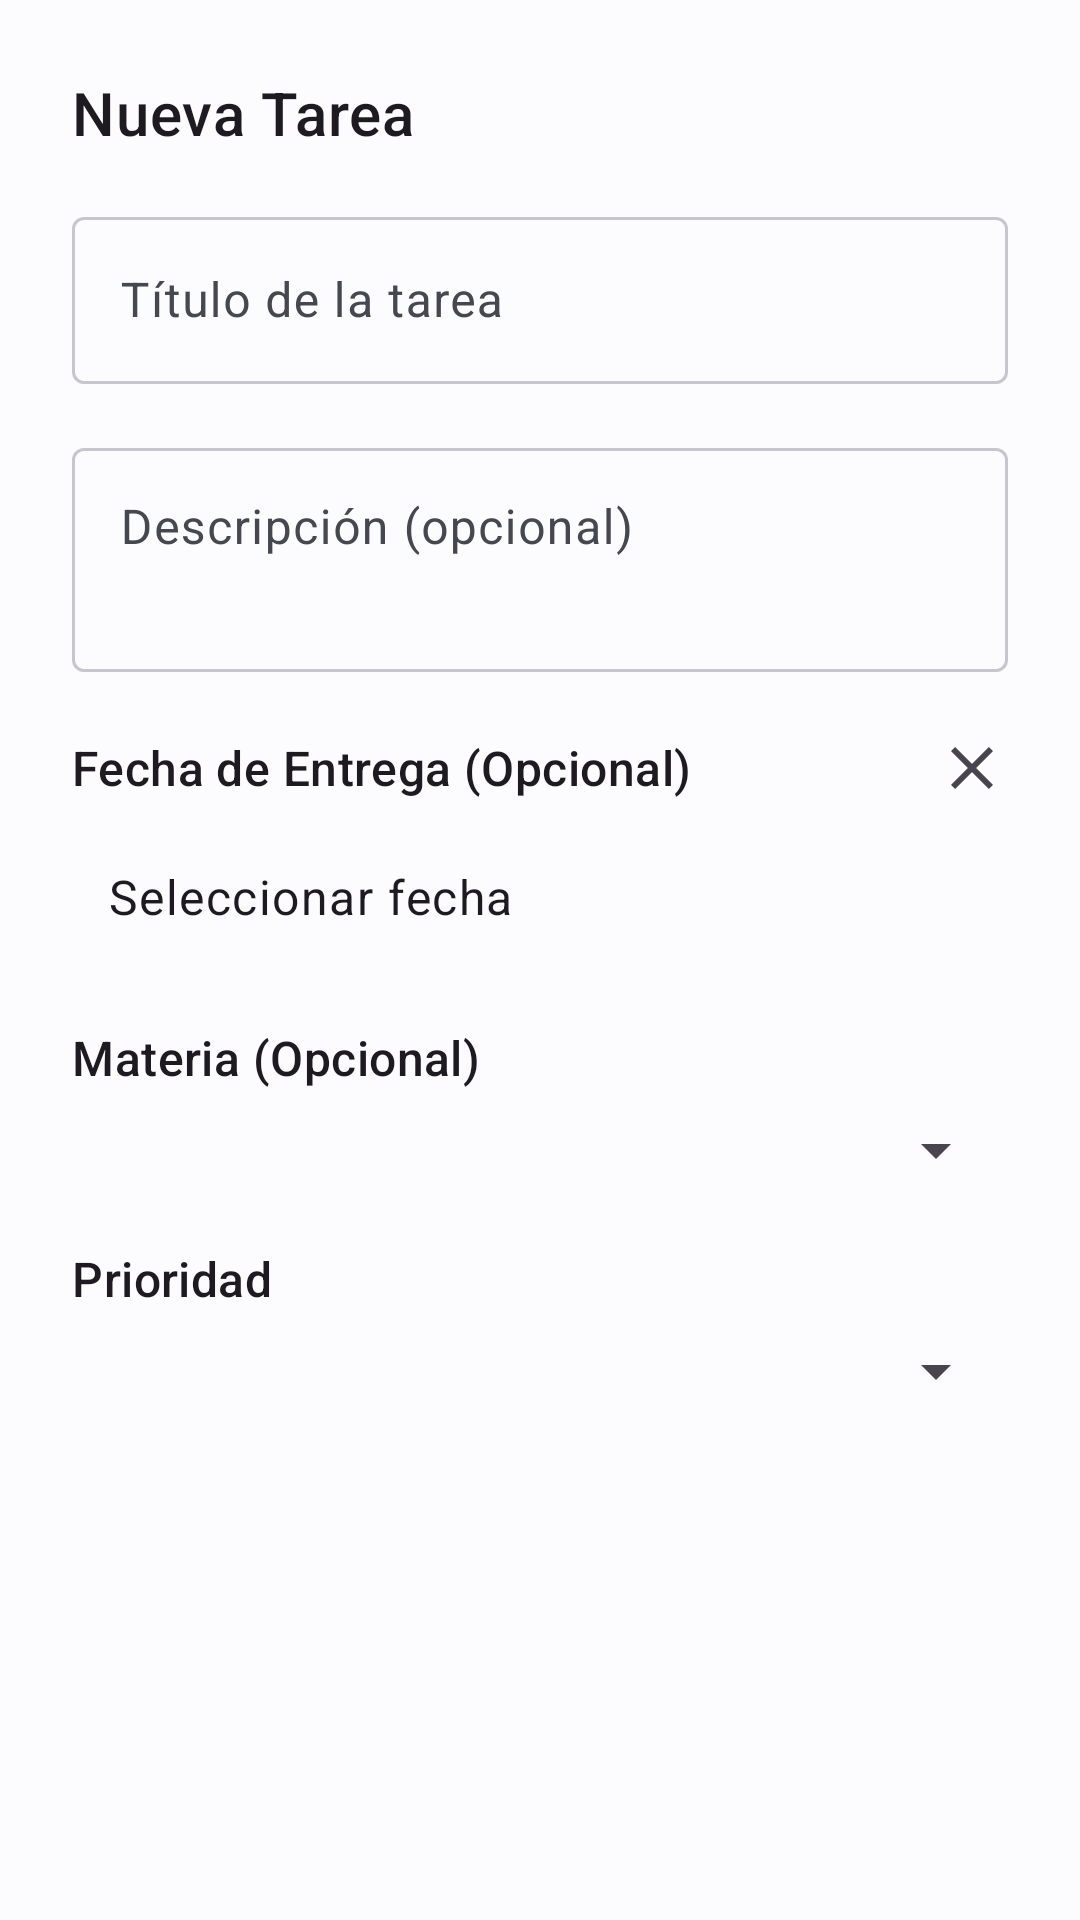

Icon bounding boxes for this 1080 x 1920 phone screenshot, format (x1, y1, x2, y2):
Limpiar fecha: (951, 747, 993, 789)
